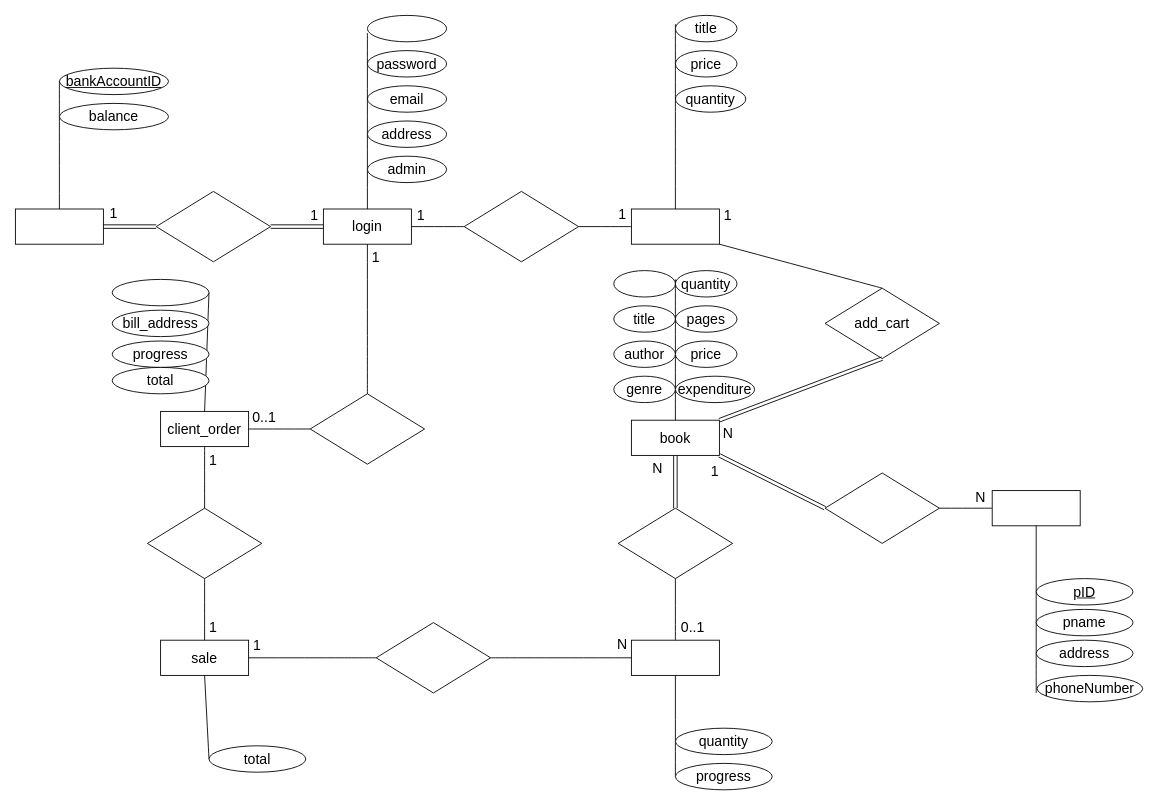
Image size: 1158x805. Some labels were removed from this diagram. The centre of each missing label's shape, as x and y in pixels:
"bank" belongs at [59,226].
"checkout" belongs at [675,226].
"inventory" belongs at [675,543].
"ISBN" belongs at [644,283].
"publication" belongs at [881,507].
"publisher" belongs at [1035,508].
"purchase" belongs at [521,226].
"report_sales" belongs at [204,543].
"ship_address" belongs at [160,292].
"ship_order" belongs at [367,428].
"stock" belongs at [433,657].
"store_order" belongs at [675,657].
"transaction" belongs at [213,226].
"username" belongs at [407,28].
